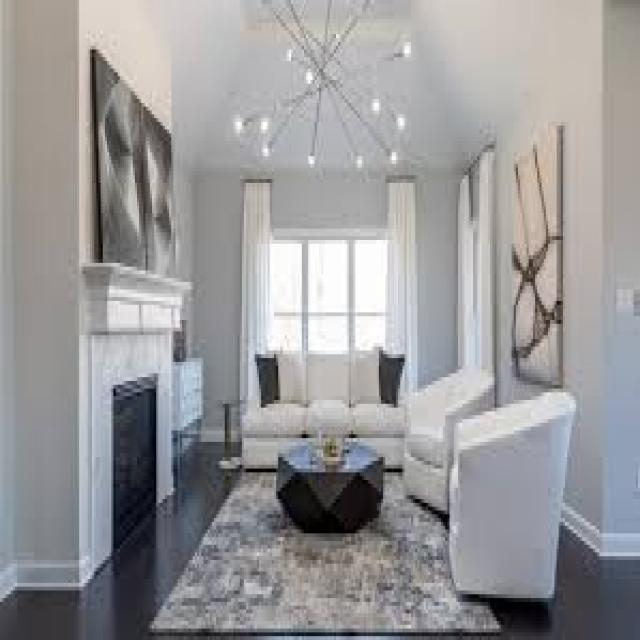Chair: (448, 382, 573, 620), (397, 357, 490, 497)
Lamp: (253, 12, 422, 174)
Sofa: (230, 327, 408, 472)
Table: (277, 435, 385, 545)
